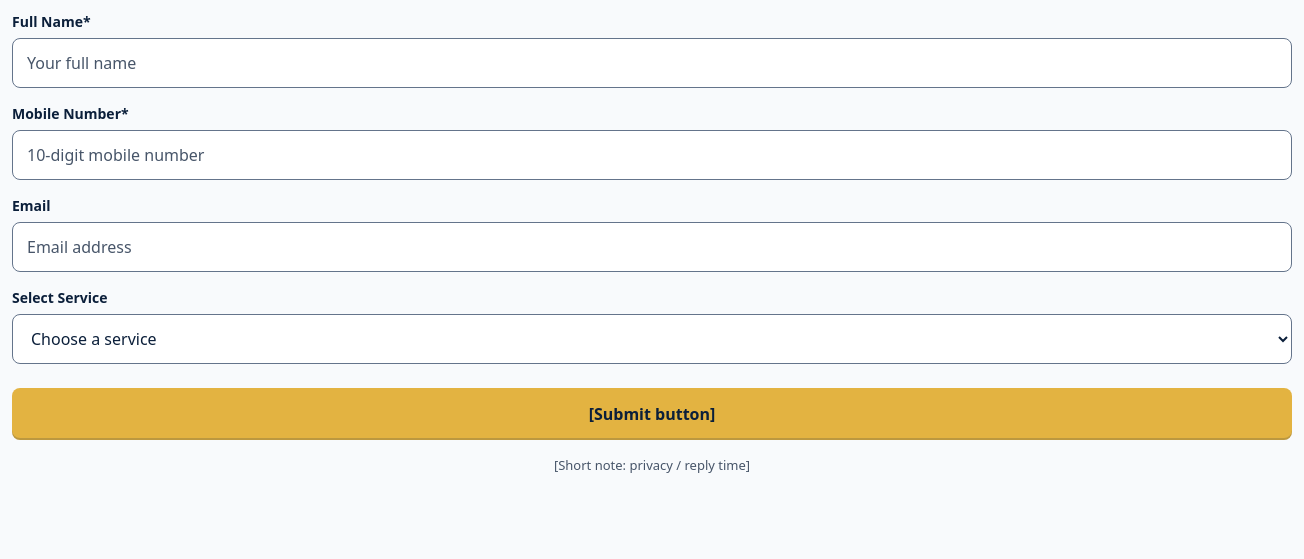
Test: EnquiryForm › opens WhatsApp with the details and shows the after-submit message
In the field labelled "Full Name*": (652, 63) [12,38,1292,88], type "Asha Verma"
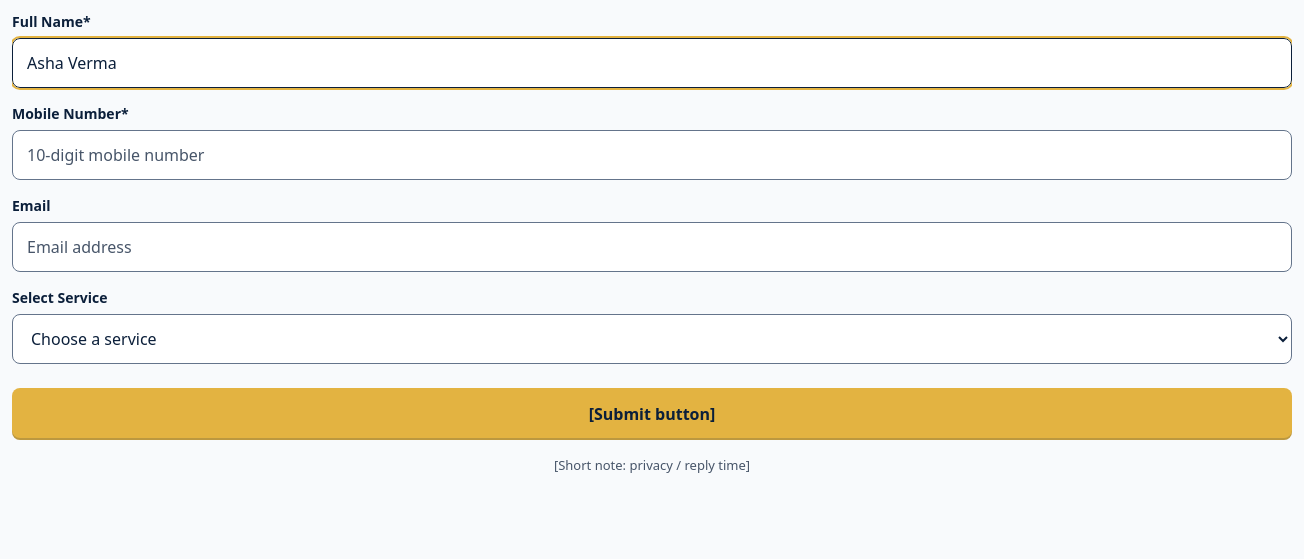
In the field labelled "Mobile Number*": (652, 155) [12,130,1292,180], type "9876543210"
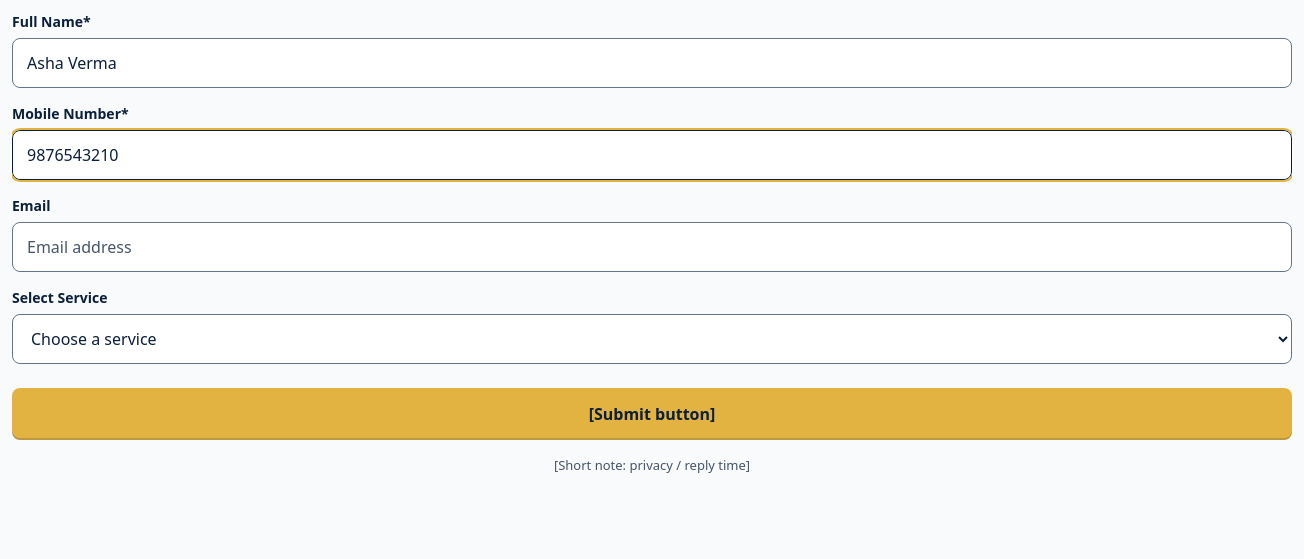
Select "GST Registration" in the dropdown labelled "Select Service": (652, 339) [12,314,1292,364]
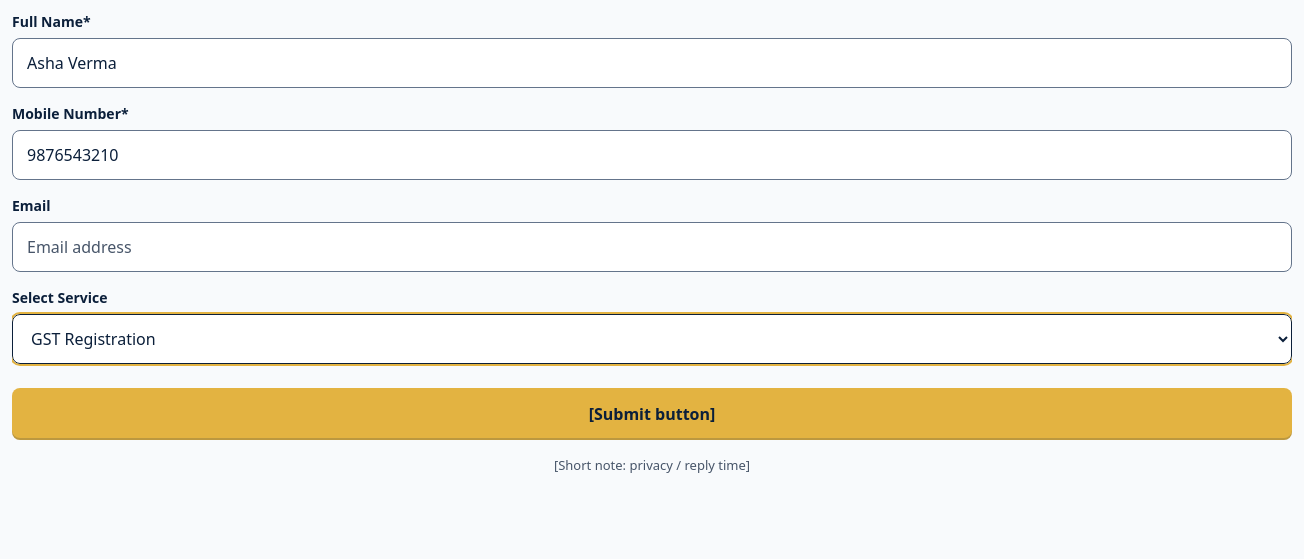
Click the button: (652, 414) [12,388,1292,440]
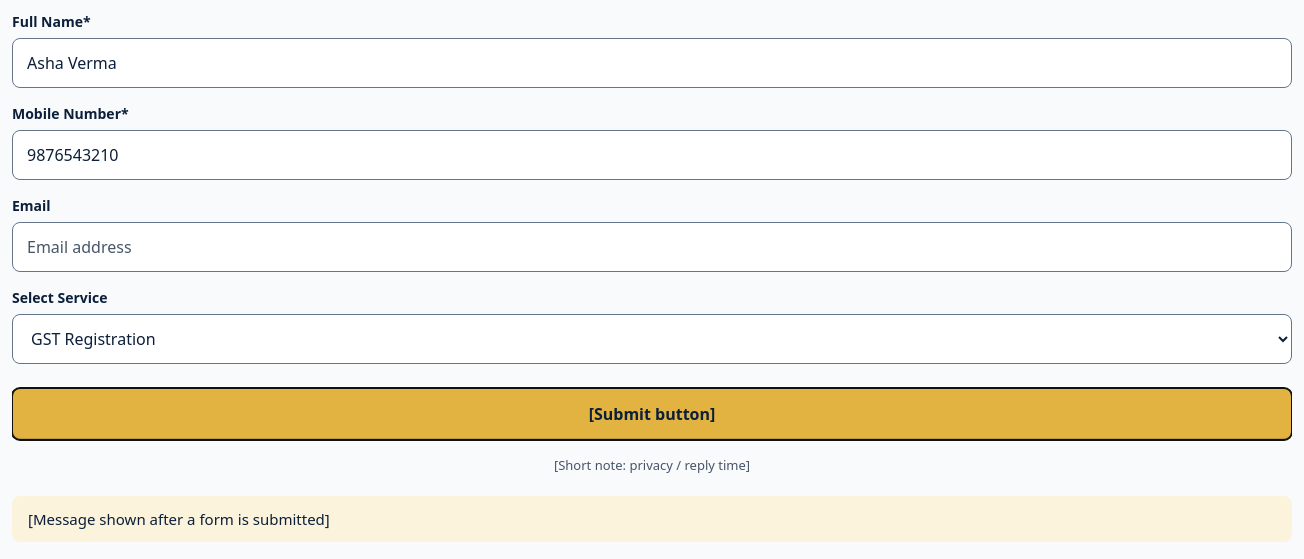
Check: the message "[Message shown after a form is submitted]" is shown, box [12,496,1292,542]
